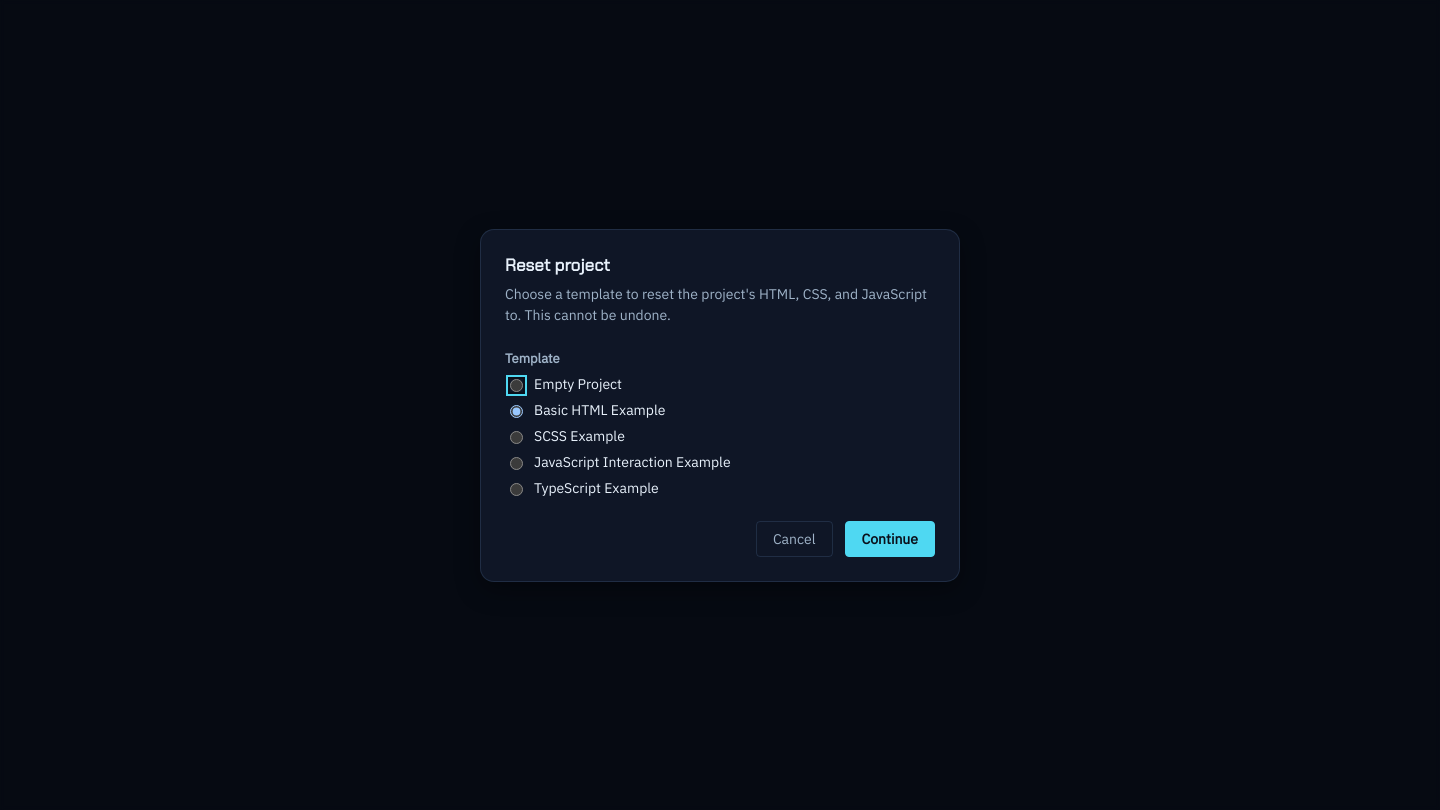
Test case: ResetProjectDialog › advances to a confirmation step naming the chosen template
Click the radio button labelled "Empty Project". click: {"x": 516, "y": 385}
box: [510,378,523,392]
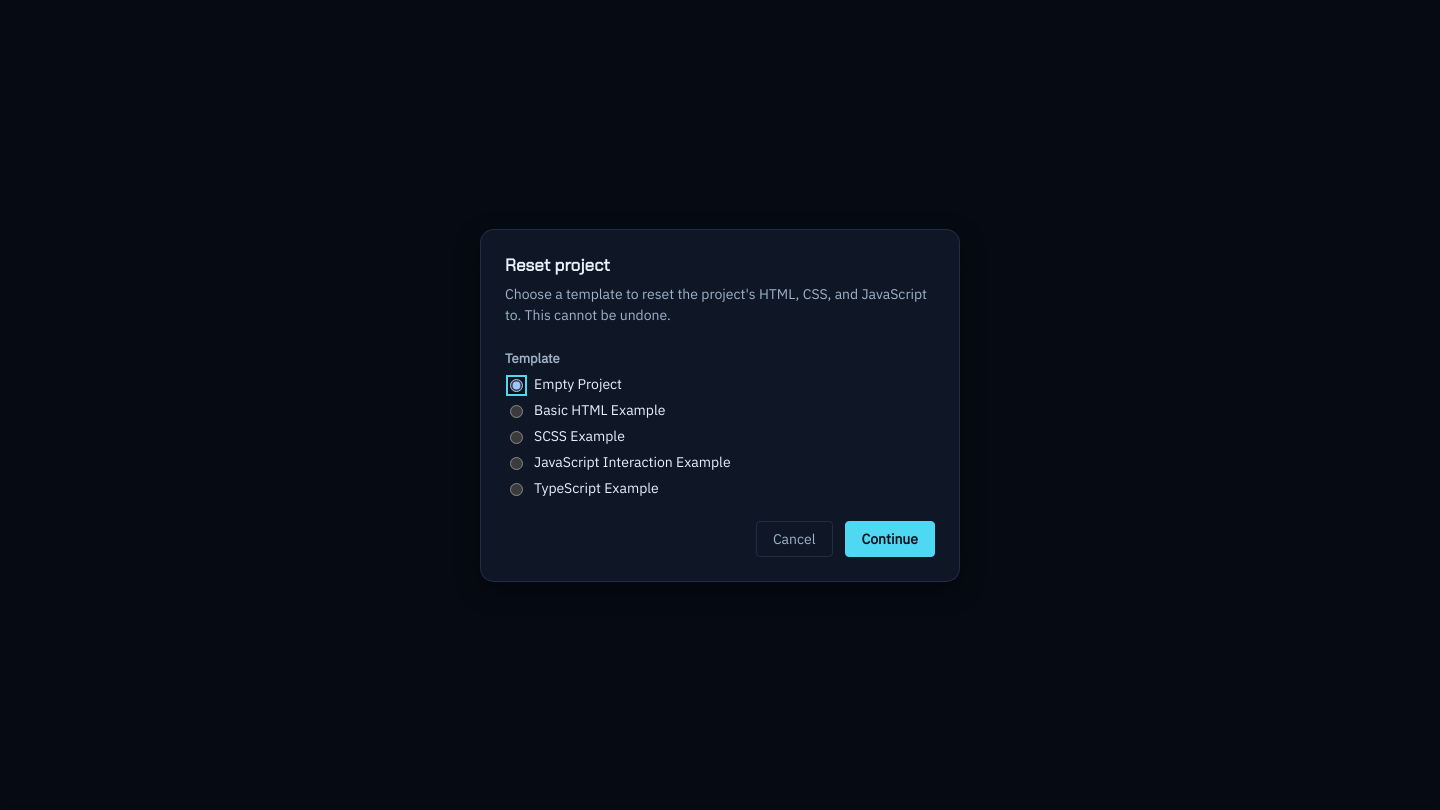
Click the button "Continue". click: {"x": 890, "y": 538}
box: [844,520,935,556]
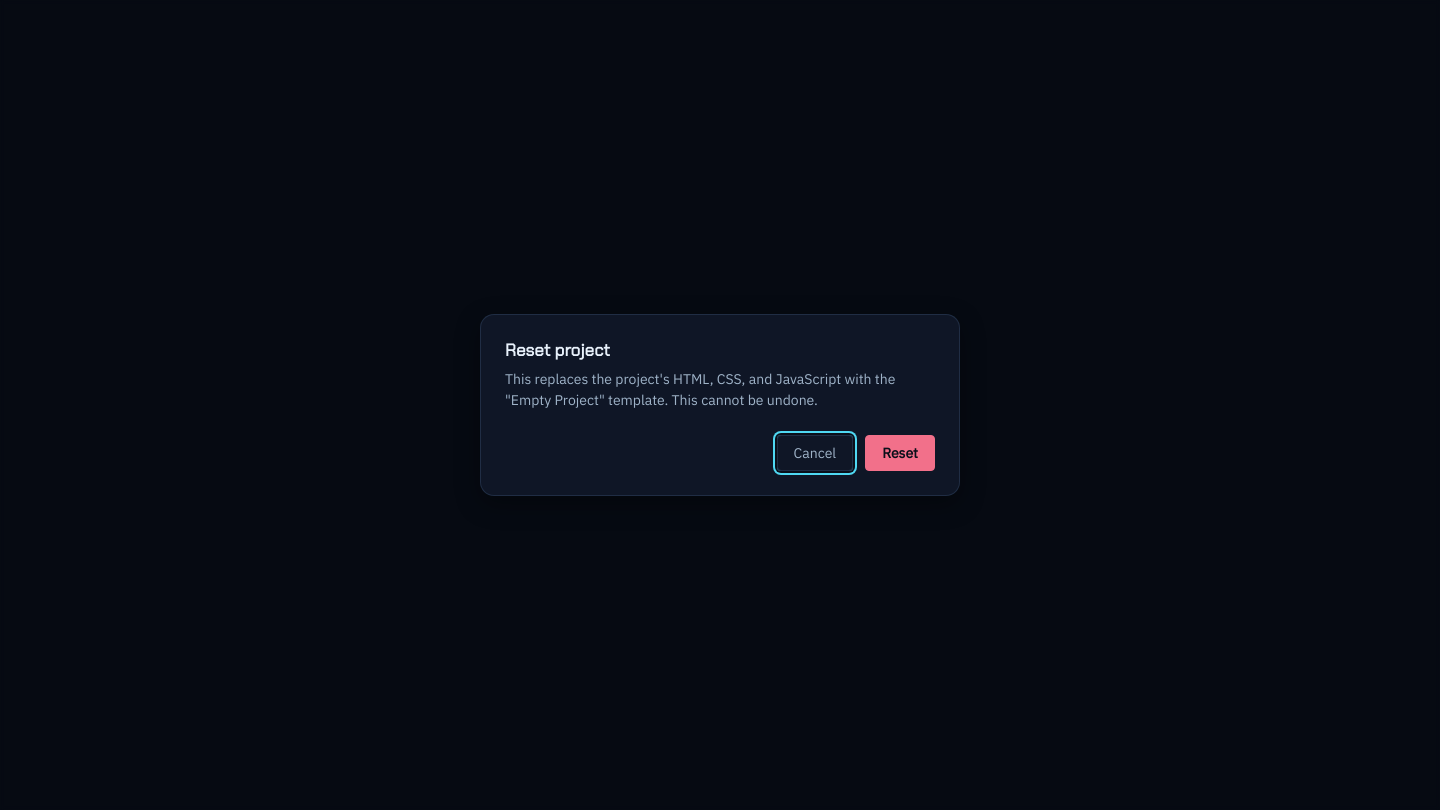
Expected: the button "Reset" is shown, [865,435,935,471]
Now the text "Empty Project" is shown, box [505,370,895,409]
